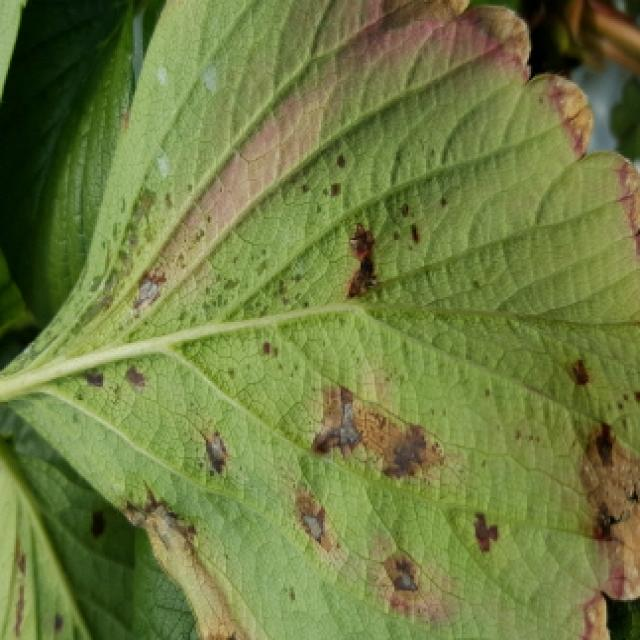Angular Leafspot: (0, 0, 640, 640), (0, 471, 86, 640)
